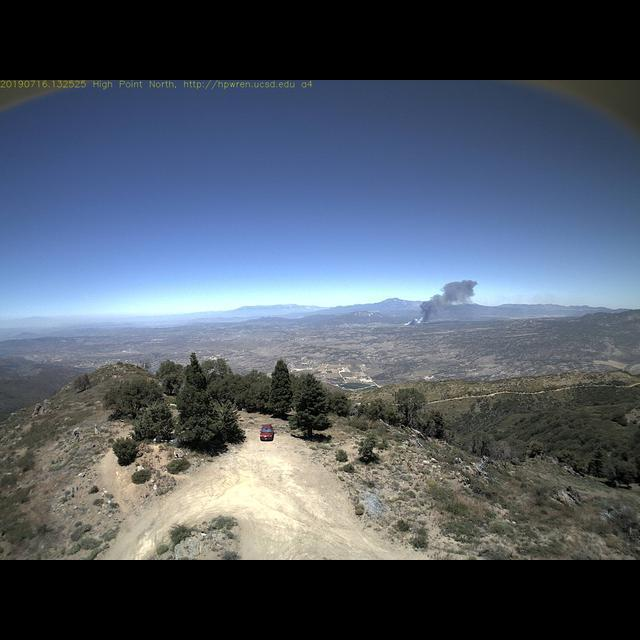Smoke: (399, 276, 480, 325)
